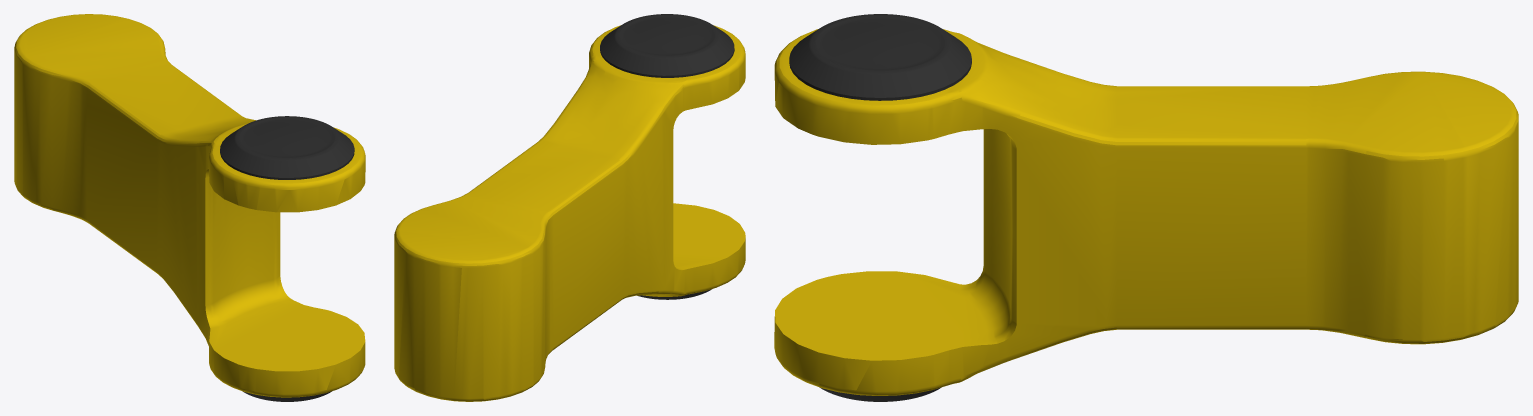
The model's file is knee_pitch_link.glb.
The picture shows the model from 3 angles, left to right: view 1: azimuth 30°, elevation 25°; view 2: azimuth 150°, elevation 25°; view 3: azimuth 270°, elevation 25°; orthographic projection. The views are drawn at different scales.
Parts seen in each view (by area): view 1: Mesh_0.012; view 2: Mesh_0.012; view 3: Mesh_0.012.
Boxes of the visible parts, <box> form: Mesh_0.012: <box>14,14,365,401</box>; Mesh_0.012: <box>394,14,745,401</box>; Mesh_0.012: <box>774,14,1518,401</box>.
Bounding box in the file's own units: 0.1349 × 0.234 × 0.4722.
